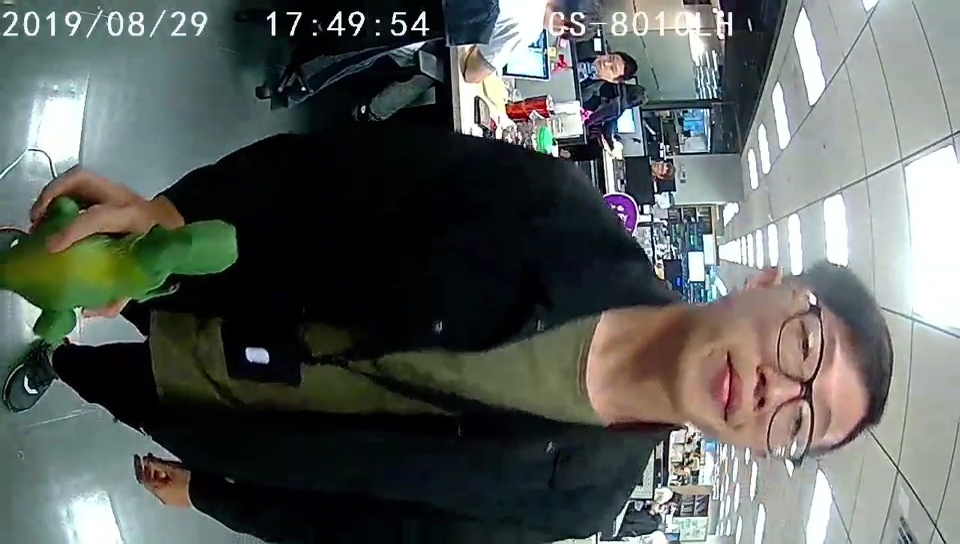rex: (3, 191, 240, 350)
